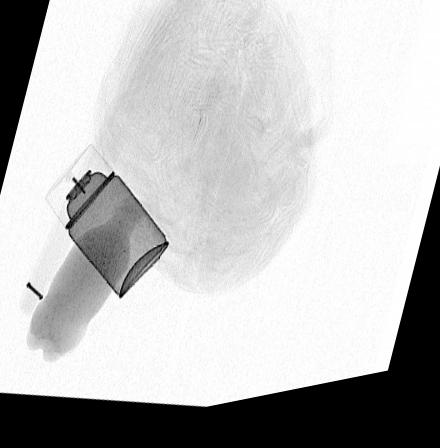Sprayer: (43, 144, 171, 302)
